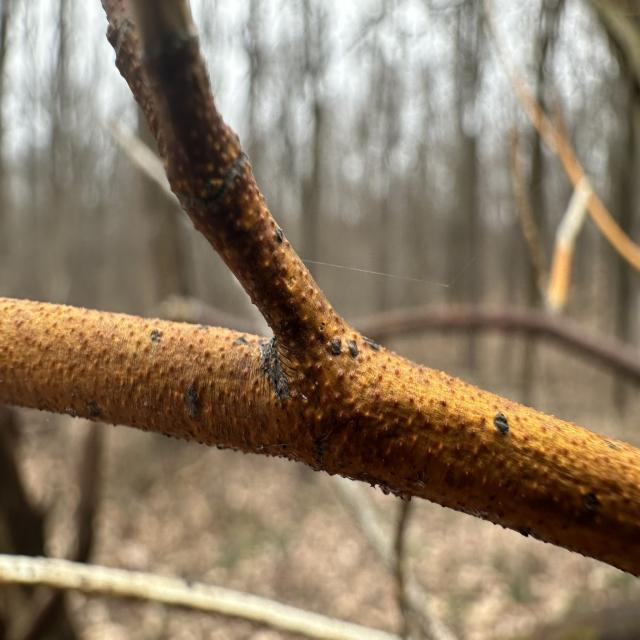Golden_canker: (2, 1, 638, 582)
